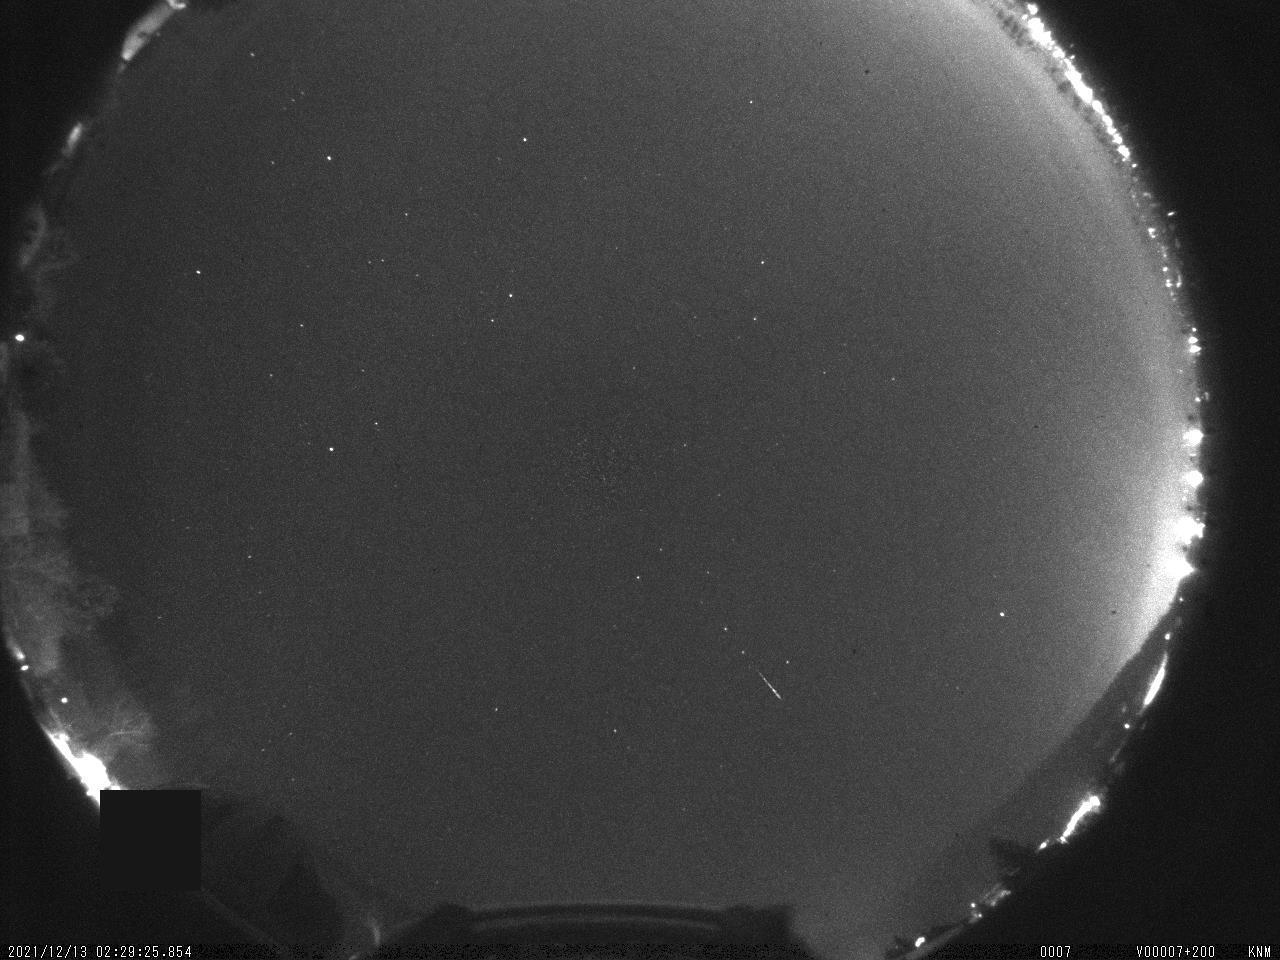Meteor: (751, 664, 788, 707)
